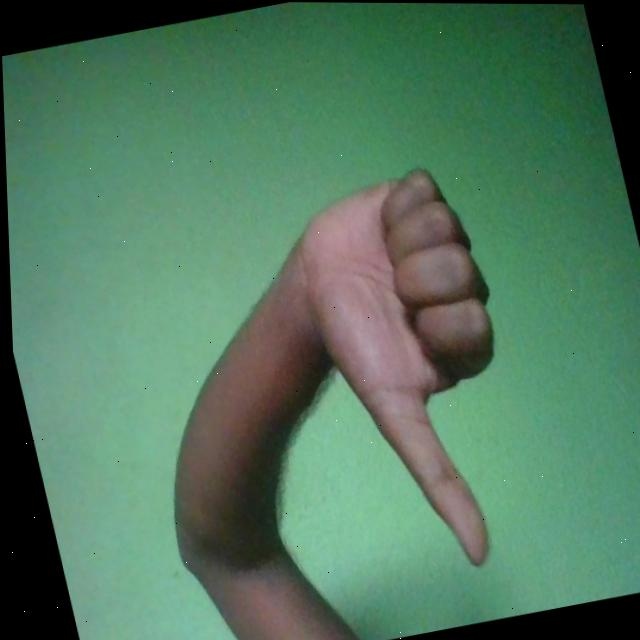Dislike: (270, 158, 547, 590)
